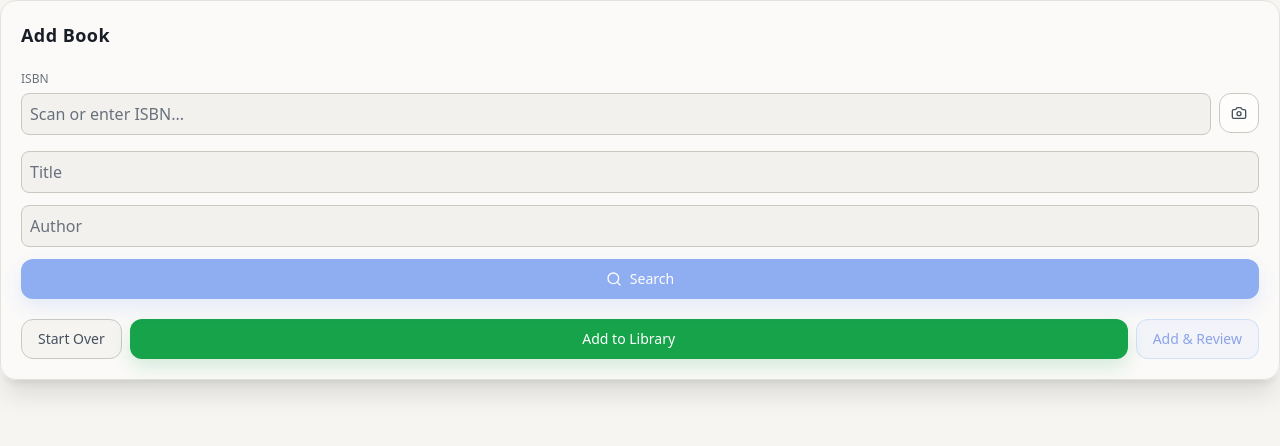
Test: shows no-results and error states
Step 1. Type "Missing" into the field with placeholder "Title" → (640, 172), box left=21, top=151, right=1259, bottom=193
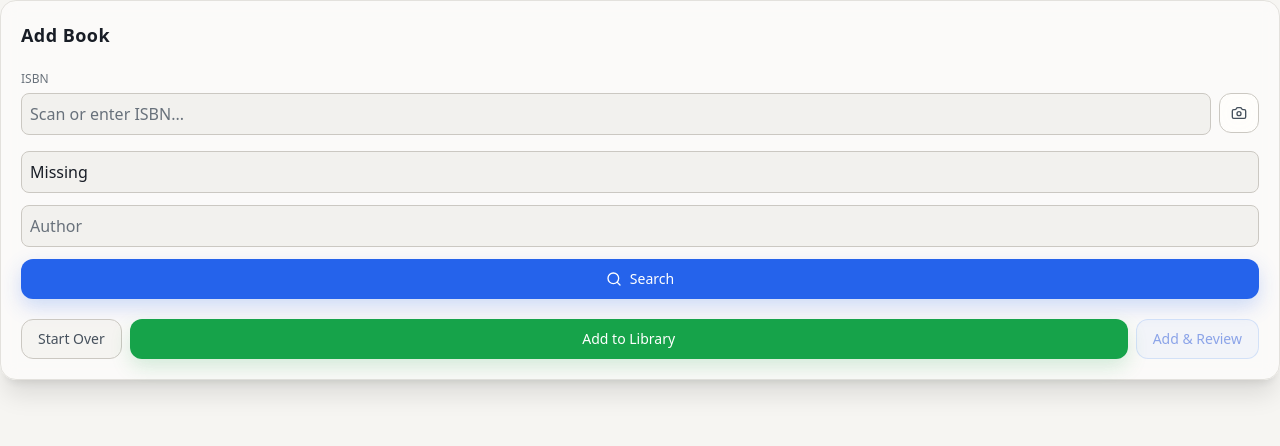
Step 2. Click the button "Search" → (640, 279), box left=21, top=259, right=1259, bottom=299
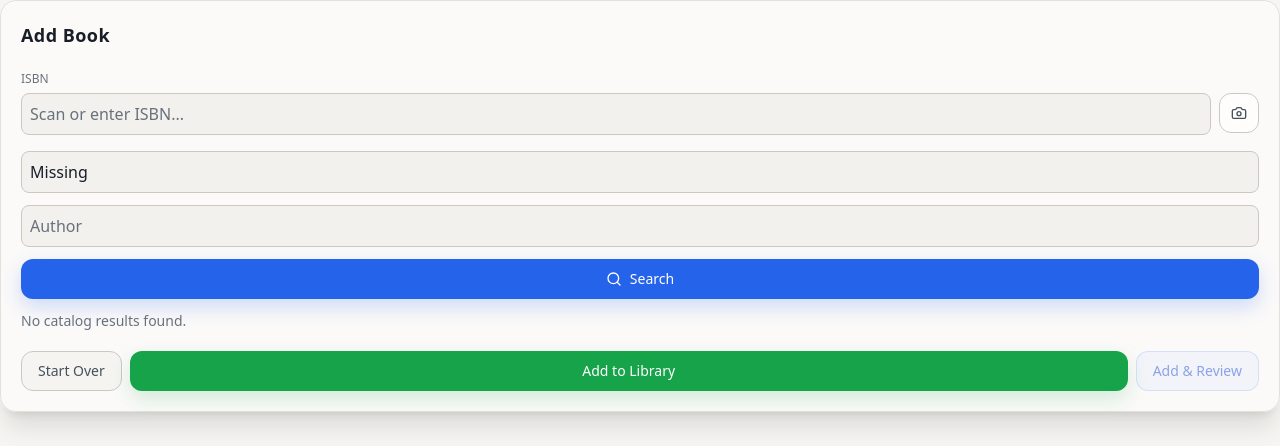
Now the text "No catalog results found." is shown, box left=21, top=311, right=186, bottom=330
Step 3. Replace the text in the field with placeholder "Title" with "Retry" → (640, 172), box left=21, top=151, right=1259, bottom=193
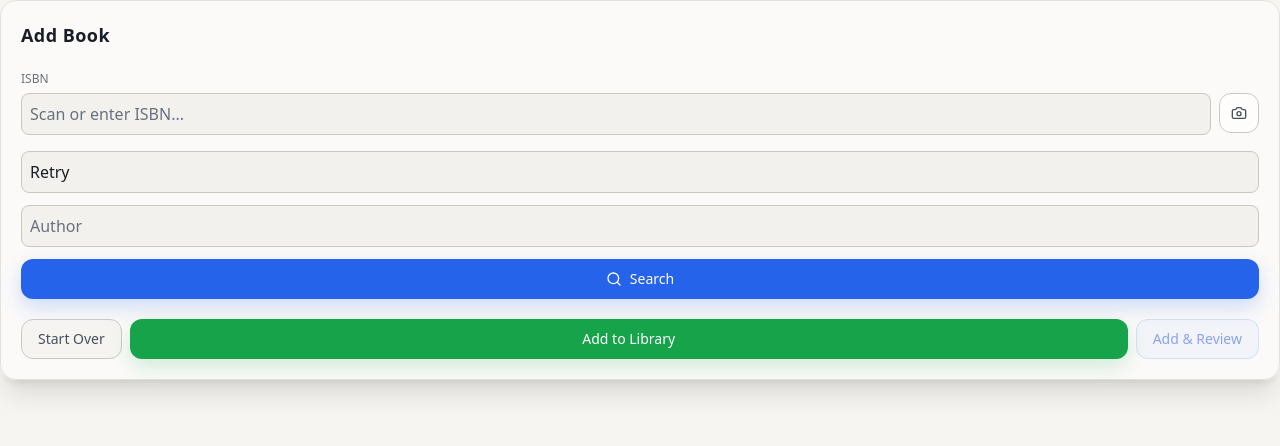
Step 4. Click the button "Search" → (640, 279), box left=21, top=259, right=1259, bottom=299
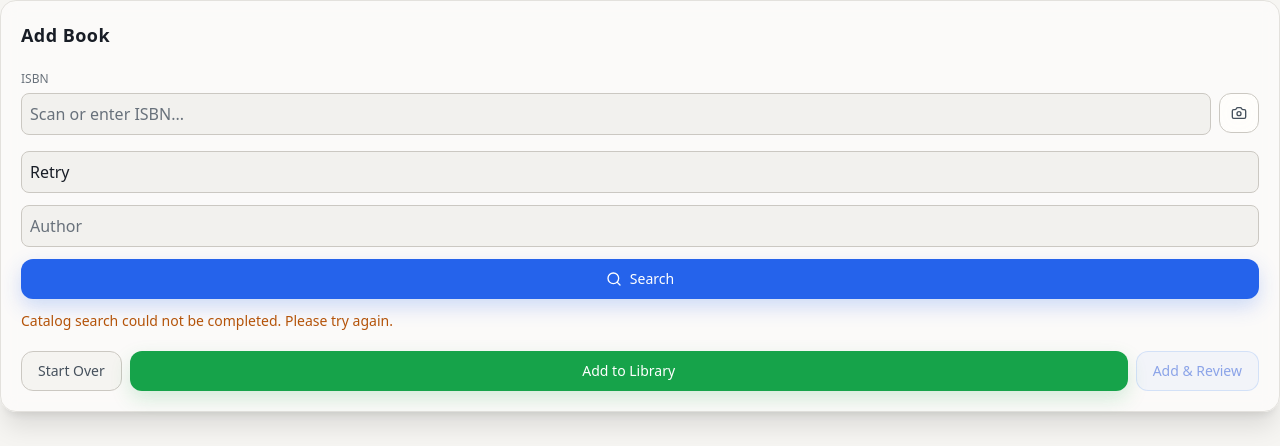
Now the text "Catalog search could not be completed. Please try again." is shown, box left=21, top=311, right=393, bottom=330
